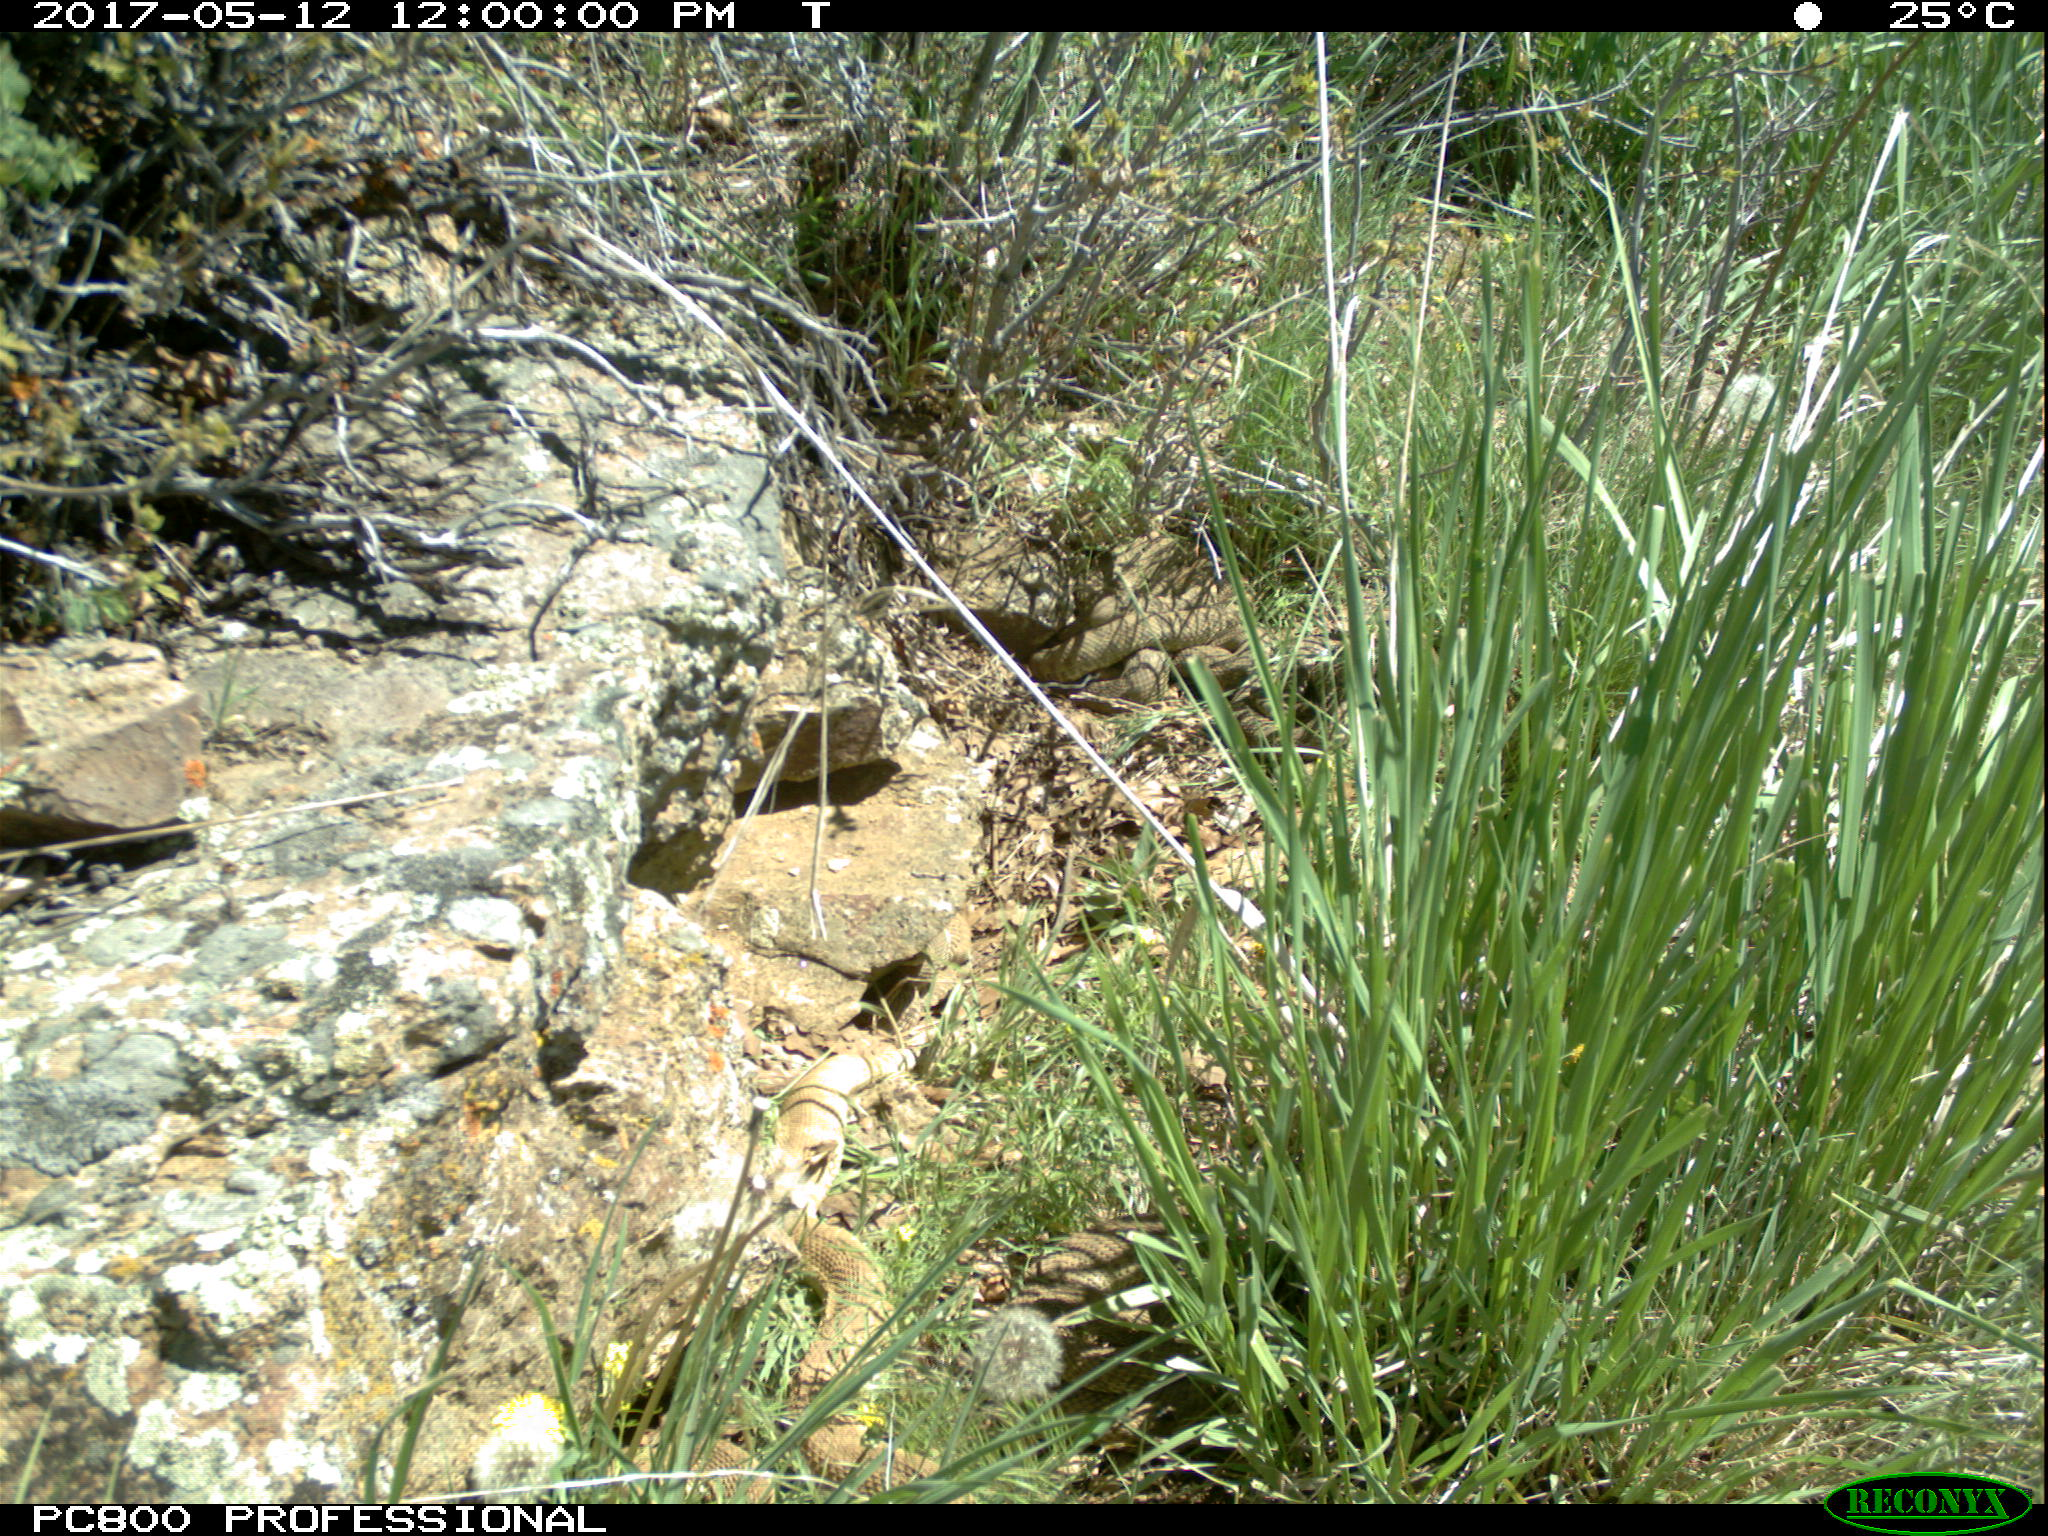snake: (761, 1041, 935, 1492), (1022, 589, 1264, 682), (624, 1428, 776, 1504), (1047, 1221, 1176, 1294)
